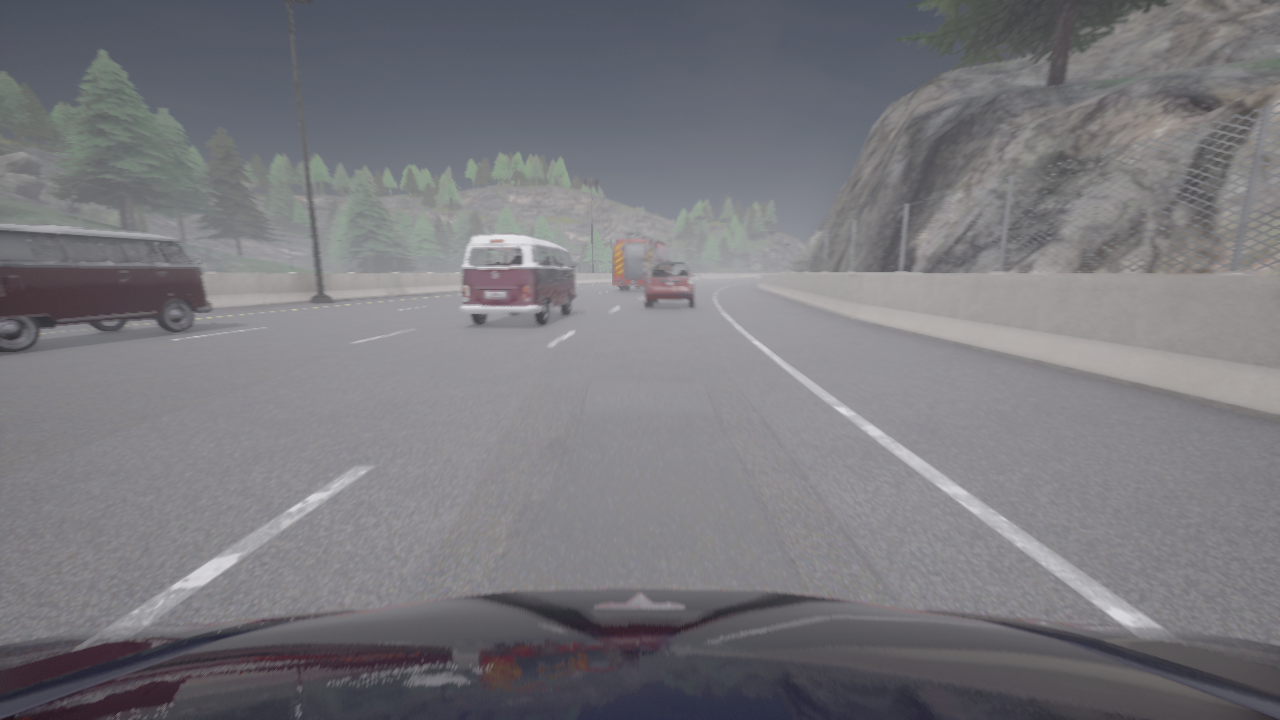cyclist: (0, 588, 1279, 719), (460, 235, 578, 325), (613, 231, 675, 290), (645, 261, 697, 308)
